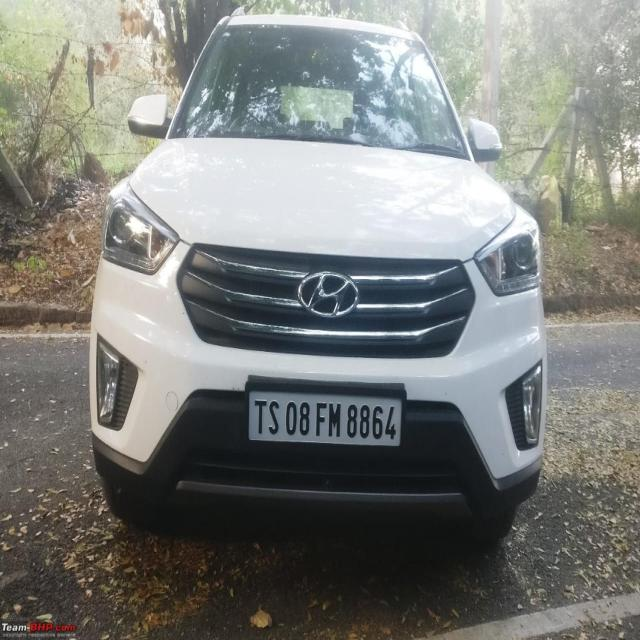number_plate: (237, 367, 416, 460)
